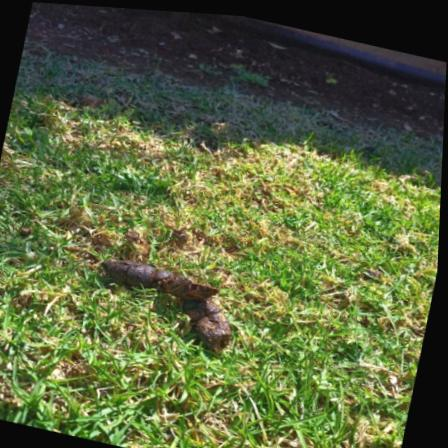dog-poop: (103, 254, 239, 338)
